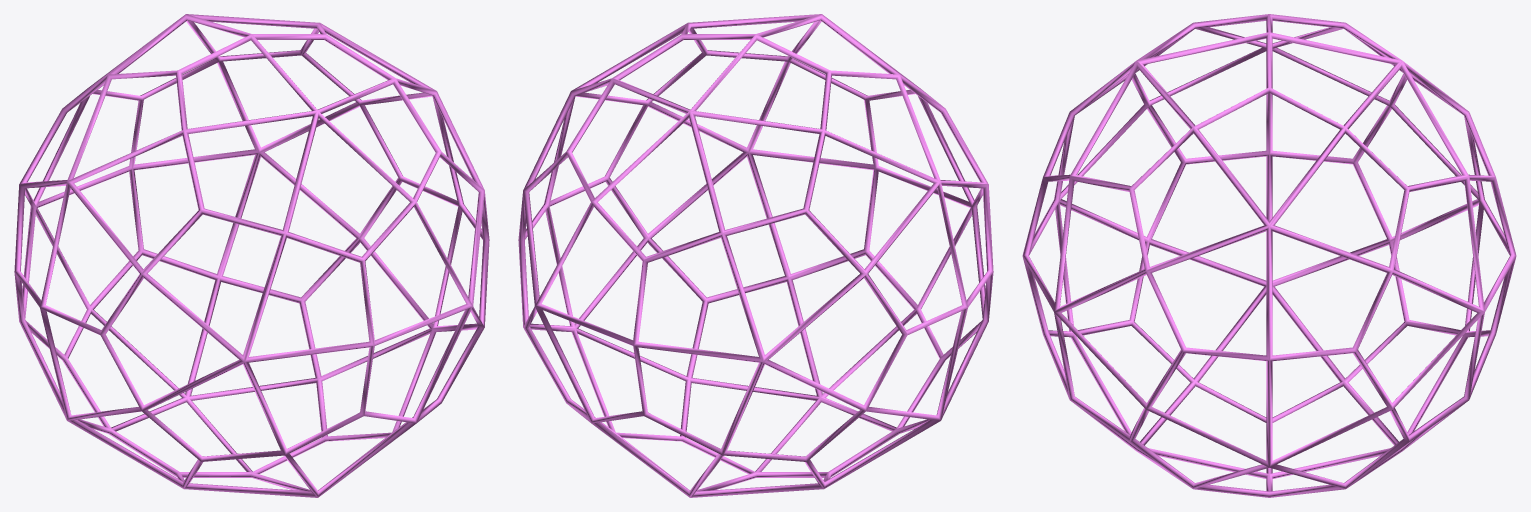
The model's file is DeltoidalHexecontahedron2.glb.
3 views of the same model, side by side, from view 1: azimuth 30°, elevation 25°; view 2: azimuth 150°, elevation 25°; view 3: azimuth 270°, elevation 25° (orthographic).
Parts seen in each view (by area): view 1: DeltoidalHexecontahedron; view 2: DeltoidalHexecontahedron; view 3: DeltoidalHexecontahedron.
Boxes of the visible parts, x1=… form: DeltoidalHexecontahedron: x1=14, y1=14, x2=489, y2=497; DeltoidalHexecontahedron: x1=518, y1=14, x2=993, y2=497; DeltoidalHexecontahedron: x1=1022, y1=14, x2=1516, y2=497.
Size of the model in its own units: 4.53 by 4.53 by 4.53.
